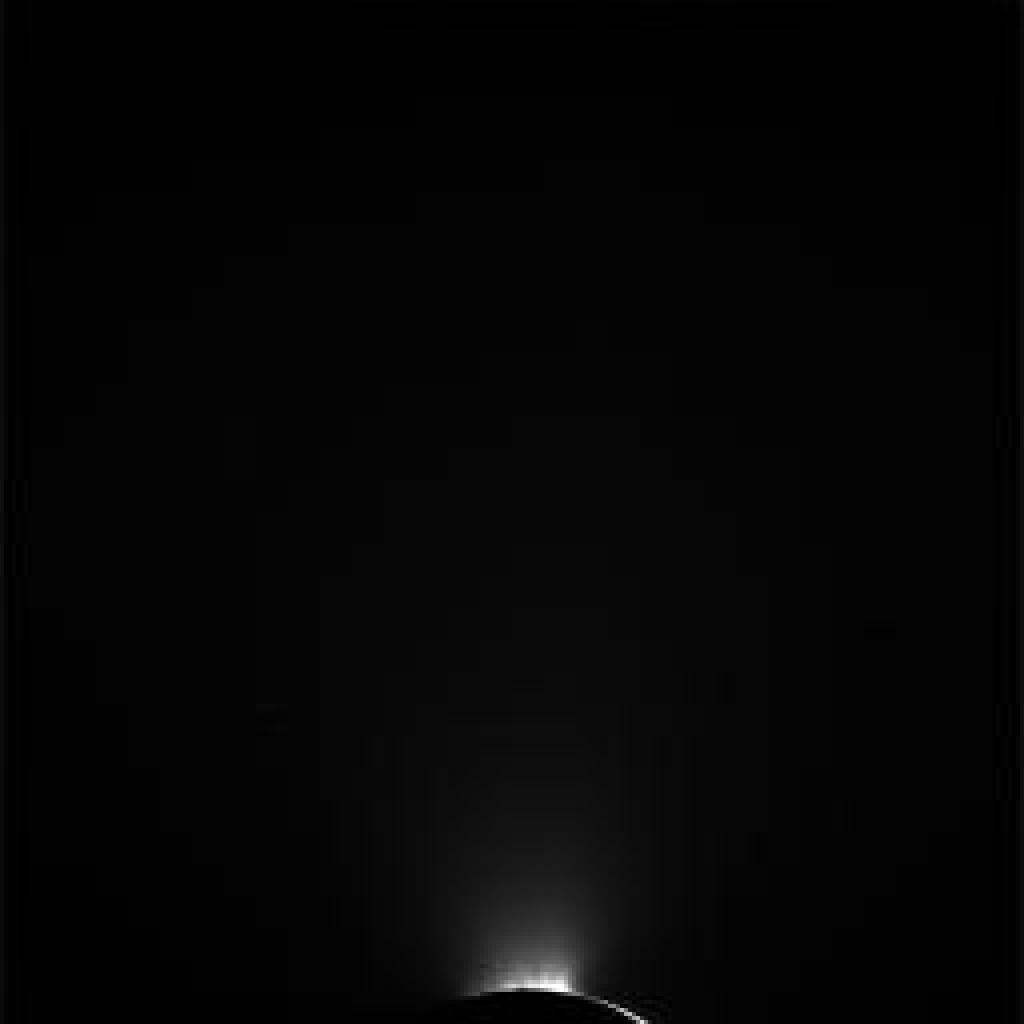plumes: (460, 858, 584, 1005)
